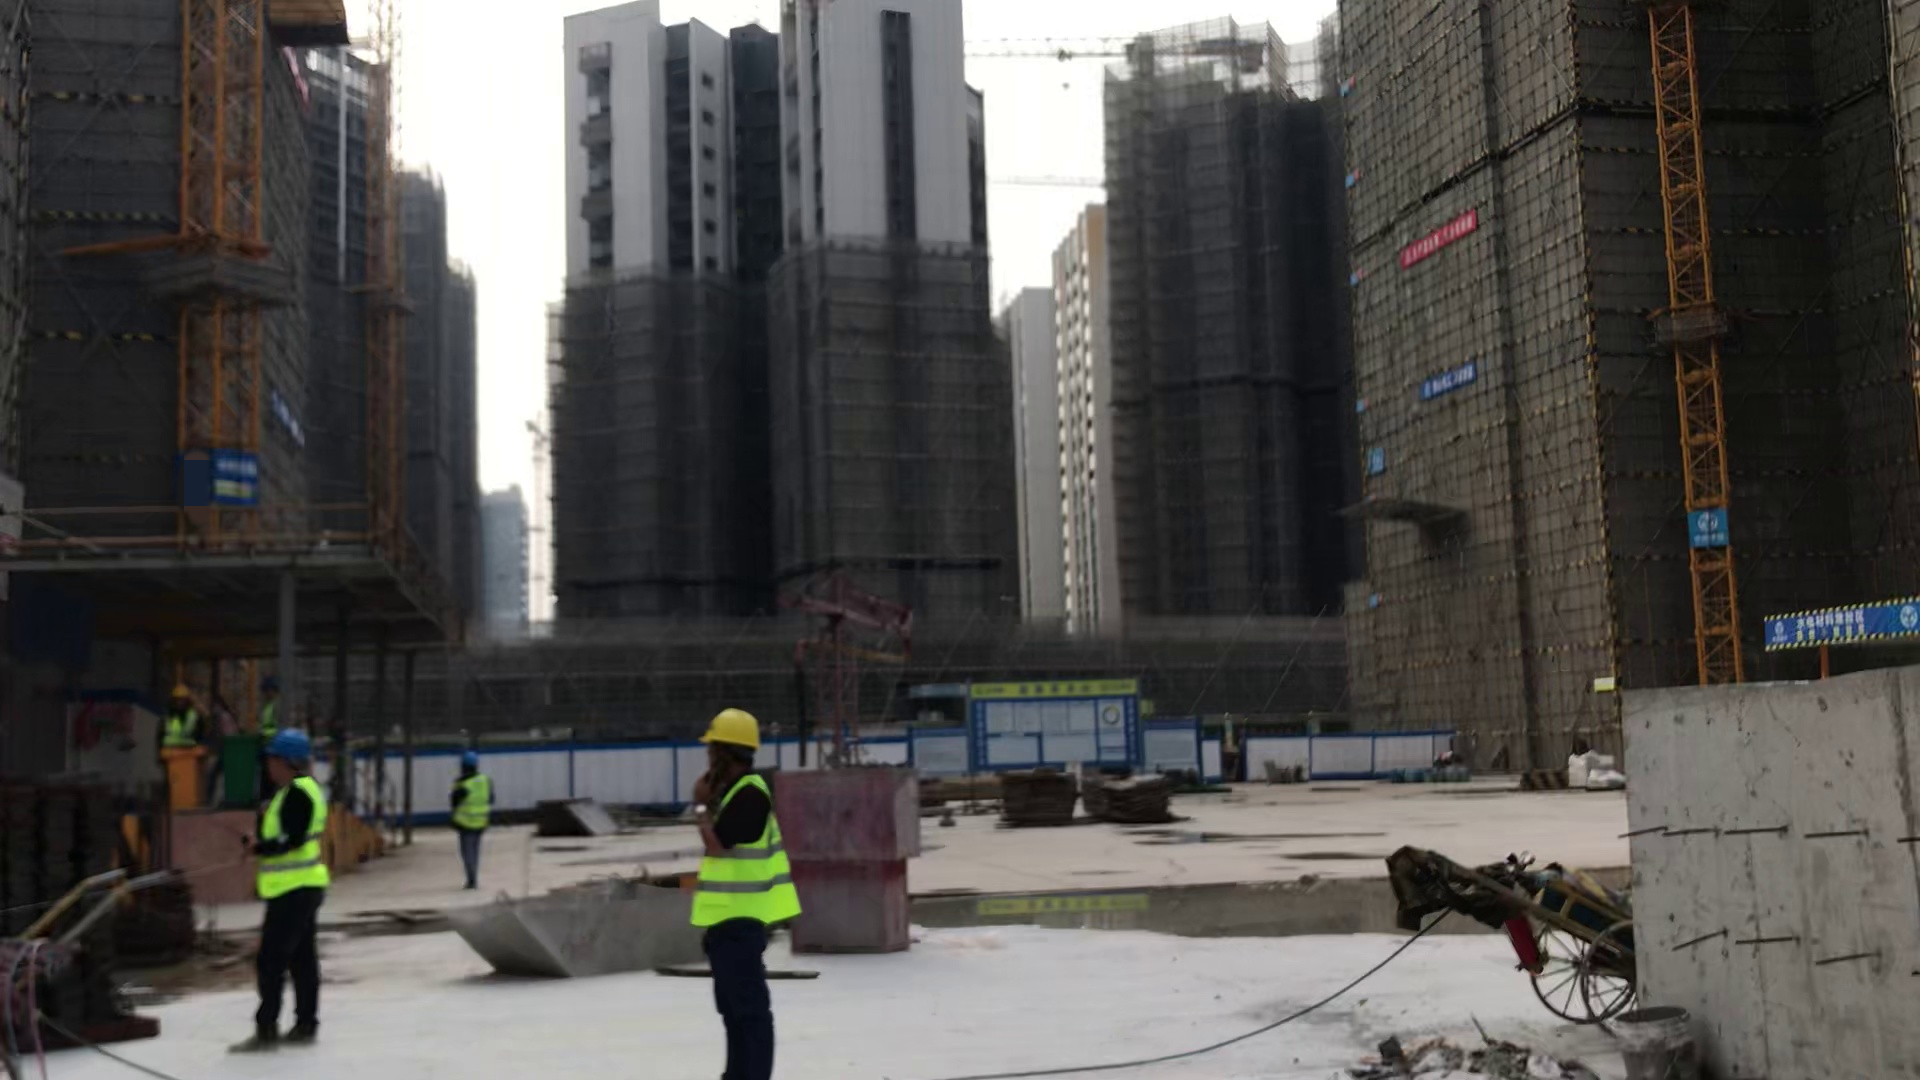board: (975, 752, 1182, 834)
helmet: (695, 706, 772, 763), (275, 735, 314, 770), (464, 744, 482, 778), (172, 679, 191, 702)
hopper: (456, 871, 743, 986)
person: (667, 701, 798, 1080), (263, 732, 336, 1061), (443, 729, 499, 892), (241, 656, 286, 751), (157, 675, 203, 751)
slogan: (1374, 343, 1493, 421), (1754, 593, 1920, 641), (1330, 216, 1501, 260), (253, 385, 313, 471)
vest: (687, 761, 813, 935), (256, 768, 337, 903), (447, 766, 499, 834), (159, 708, 202, 748), (260, 699, 280, 742)
